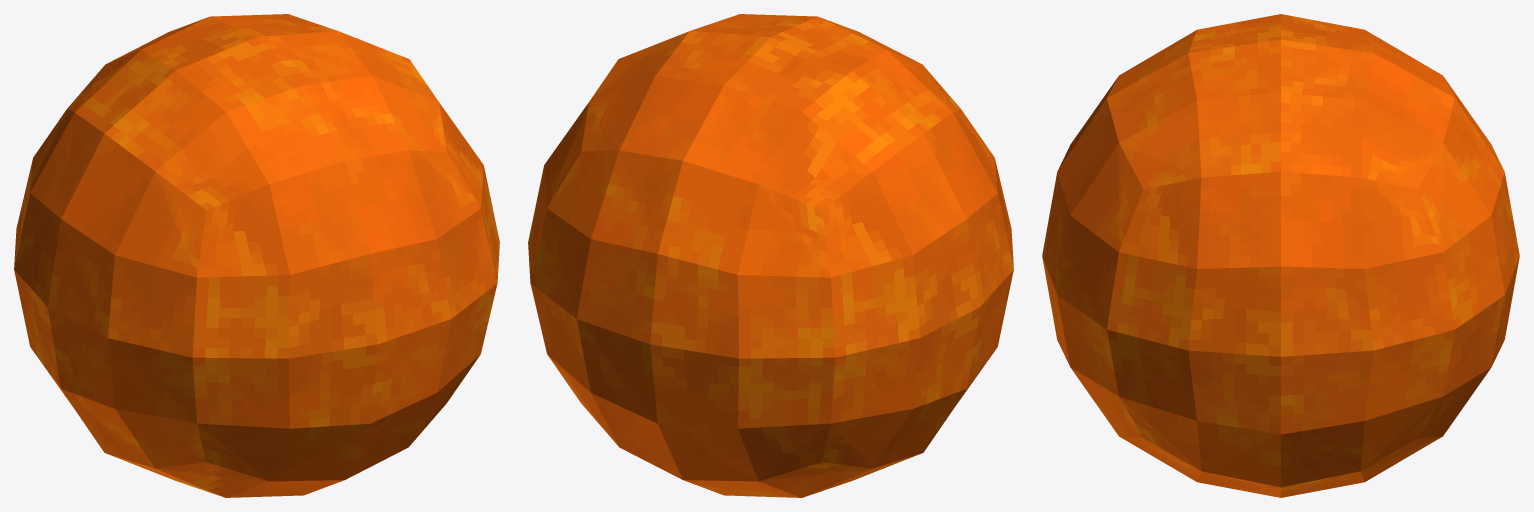
Rendered from LavaMiniSunPlanetLow.dae.
3 renders of one model, left to right at view 1: azimuth 30°, elevation 25°; view 2: azimuth 150°, elevation 25°; view 3: azimuth 270°, elevation 25°, orthographic.
Parts seen in each view (by area): view 1: m0; view 2: m0; view 3: m0.
Part boxes in pixels (x1,y1,x2,y2): m0: (14, 14, 499, 497); m0: (528, 14, 1013, 497); m0: (1042, 14, 1519, 497).
Size of the model in its own units: 802 by 802 by 802.
1 material, 1 textured.
